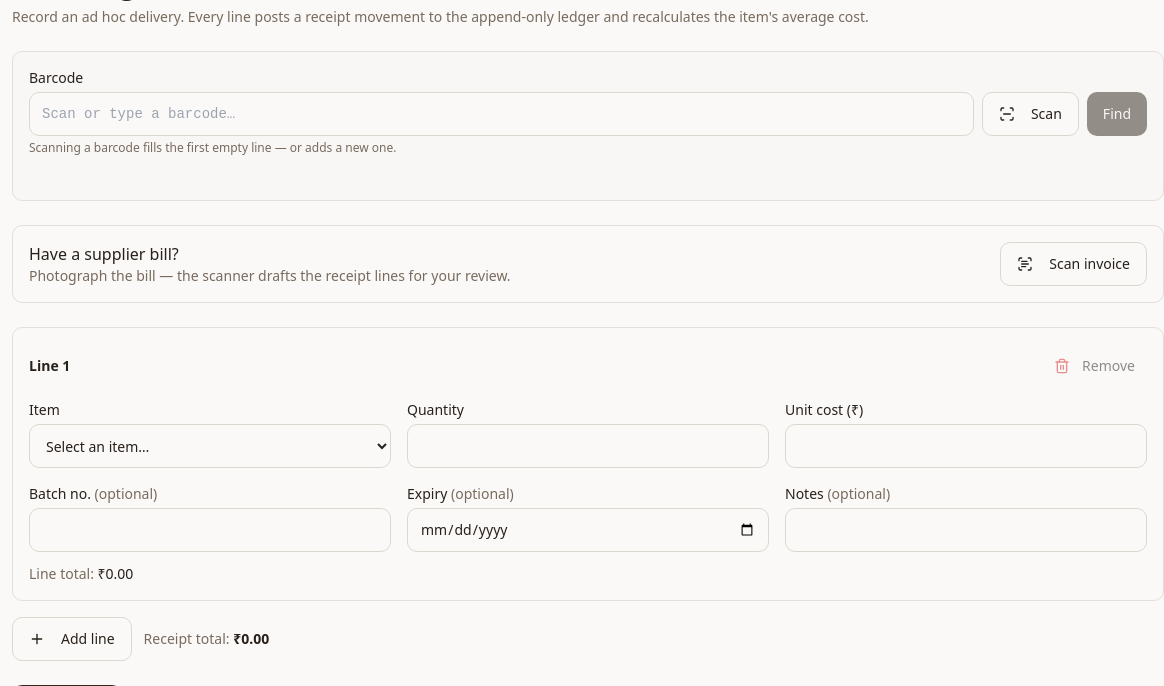
Test: ReceivingPage › adds and removes lines
Click the button "Add line" at (72, 639), box [12,617,132,661]
(page scrolled)
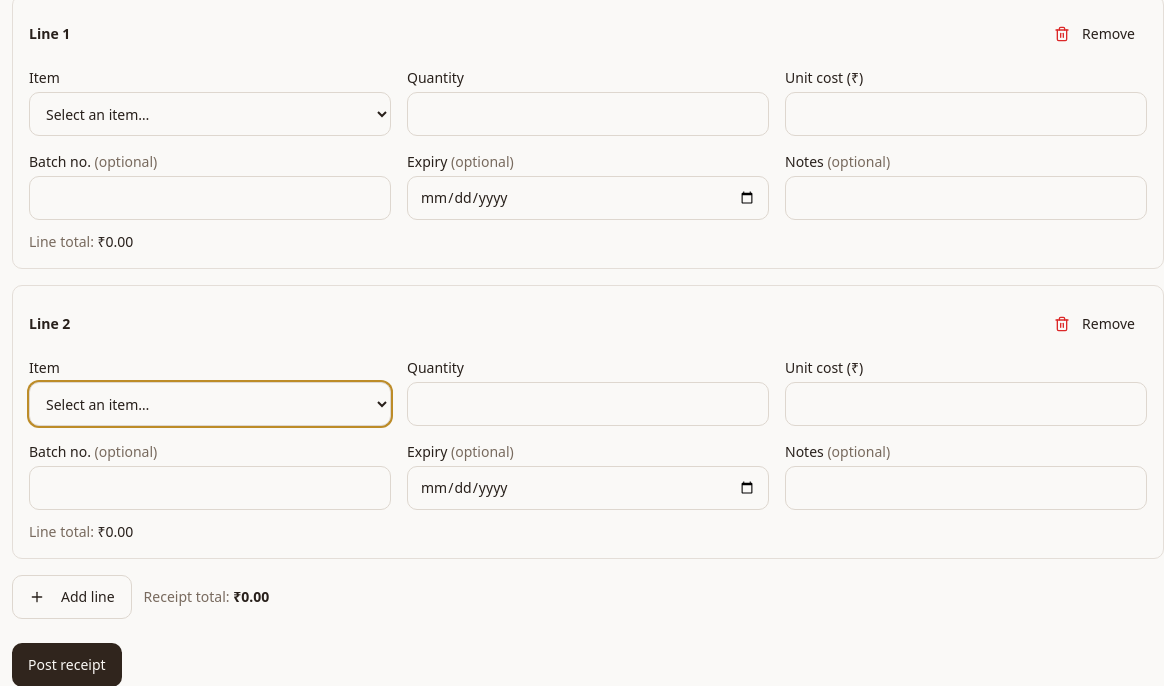
Now the text "Line 2" is shown, box [29,314,70,334]
Click the button with aria-label "remove line 2" at (1095, 324), box [1042,302,1147,346]
(page scrolled)
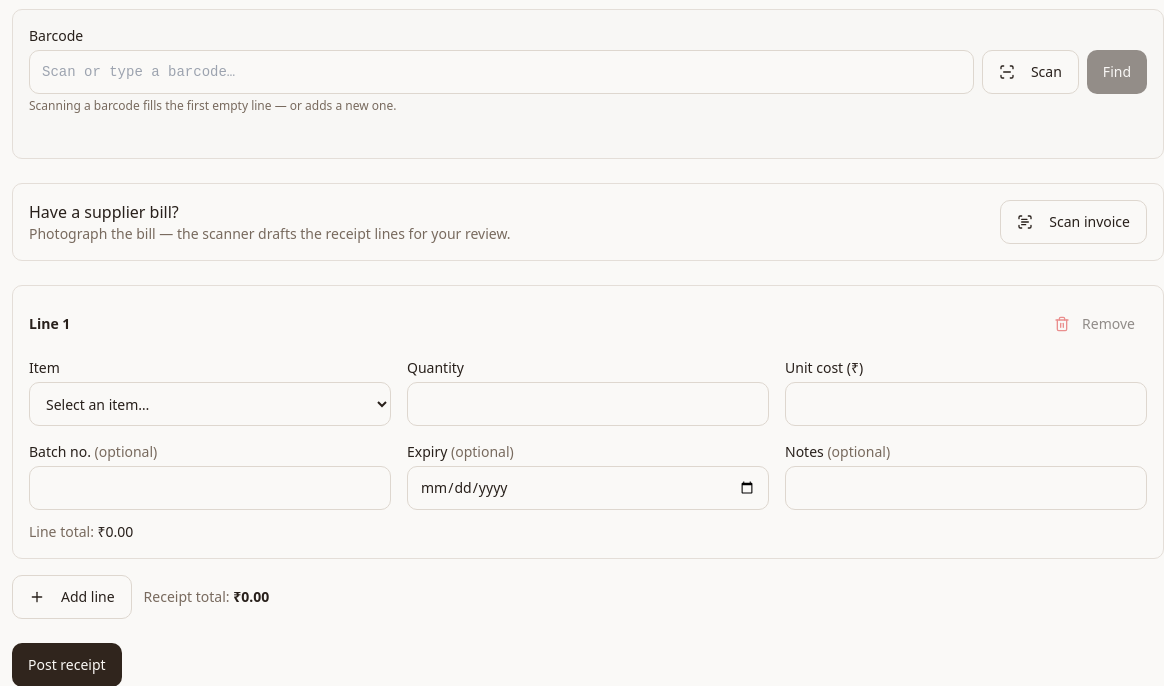
Now the text "Line 2" is gone
